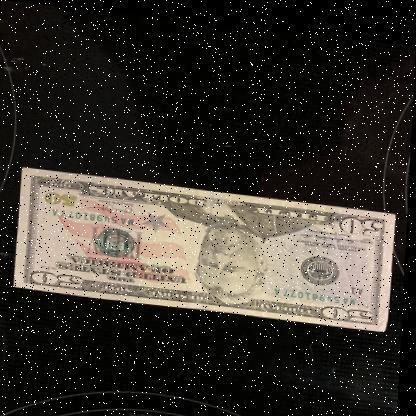fifty-front: (17, 166, 396, 326)
